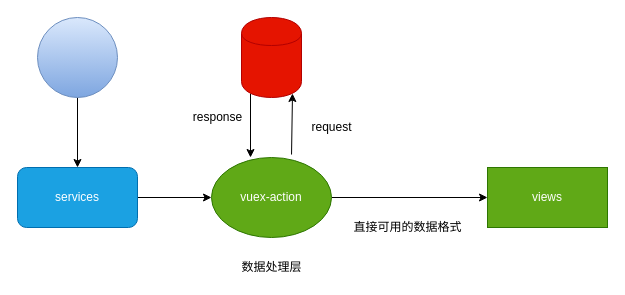
Some shapes in this 625 by 295 pixel diagram are drawn without their labels. The shapes that lost their labels are listed below. From the top down, each one's centre as x and y in pixels, then its label:
At (x=77, y=57): "axios".
At (x=271, y=57): "server".
